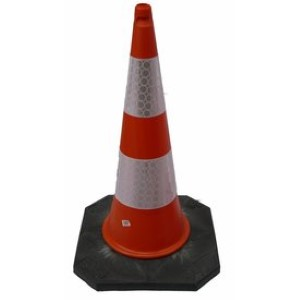traffic cone: (73, 2, 220, 291)
